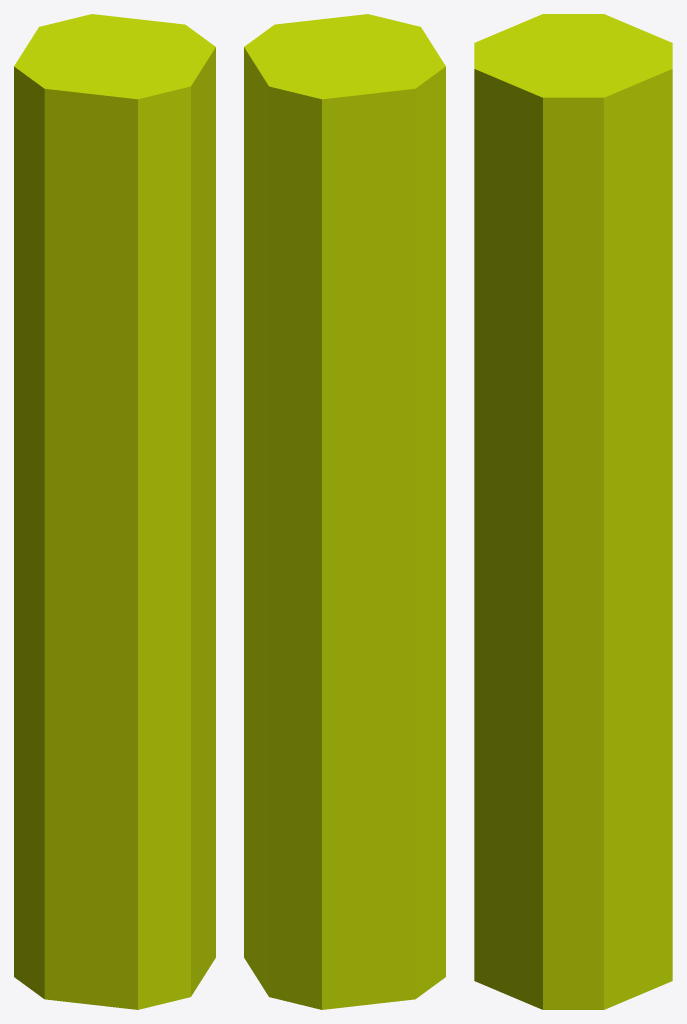
The model's file is bariyer_yeni.fbx.
3 views of the same model, side by side, from view 1: azimuth 30°, elevation 25°; view 2: azimuth 150°, elevation 25°; view 3: azimuth 270°, elevation 25° (orthographic).
Parts seen in each view (by area): view 1: Cube; view 2: Cube; view 3: Cube.
Boxes of the visible parts, left/top/right/bottom form: Cube: left=14, top=14, right=215, bottom=1009; Cube: left=244, top=14, right=445, bottom=1009; Cube: left=474, top=14, right=672, bottom=1009.
Size of the model in its own units: 0.0524 by 0.2659 by 0.0524.
